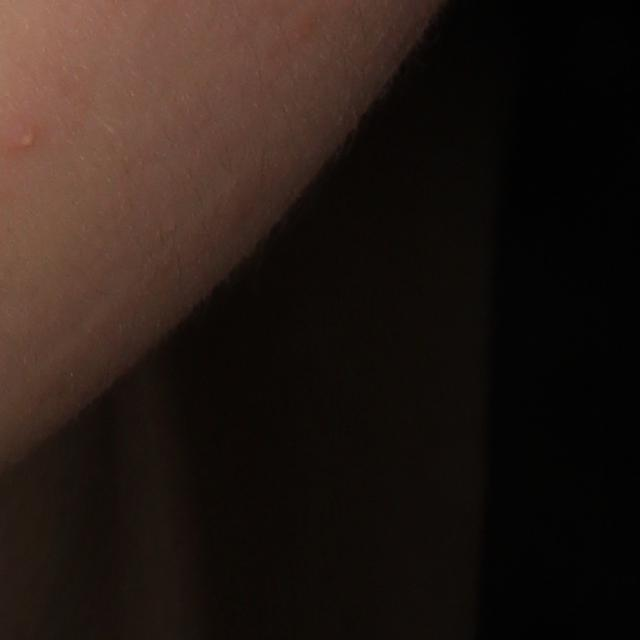pustule: (9, 123, 44, 157)
